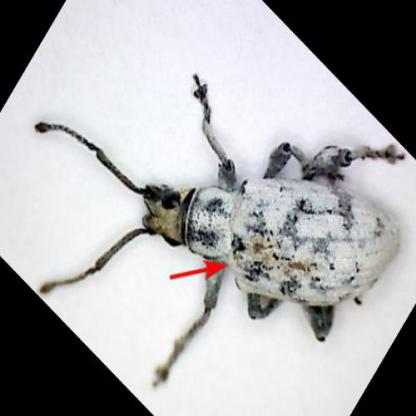ash weevil: (34, 71, 400, 382)
